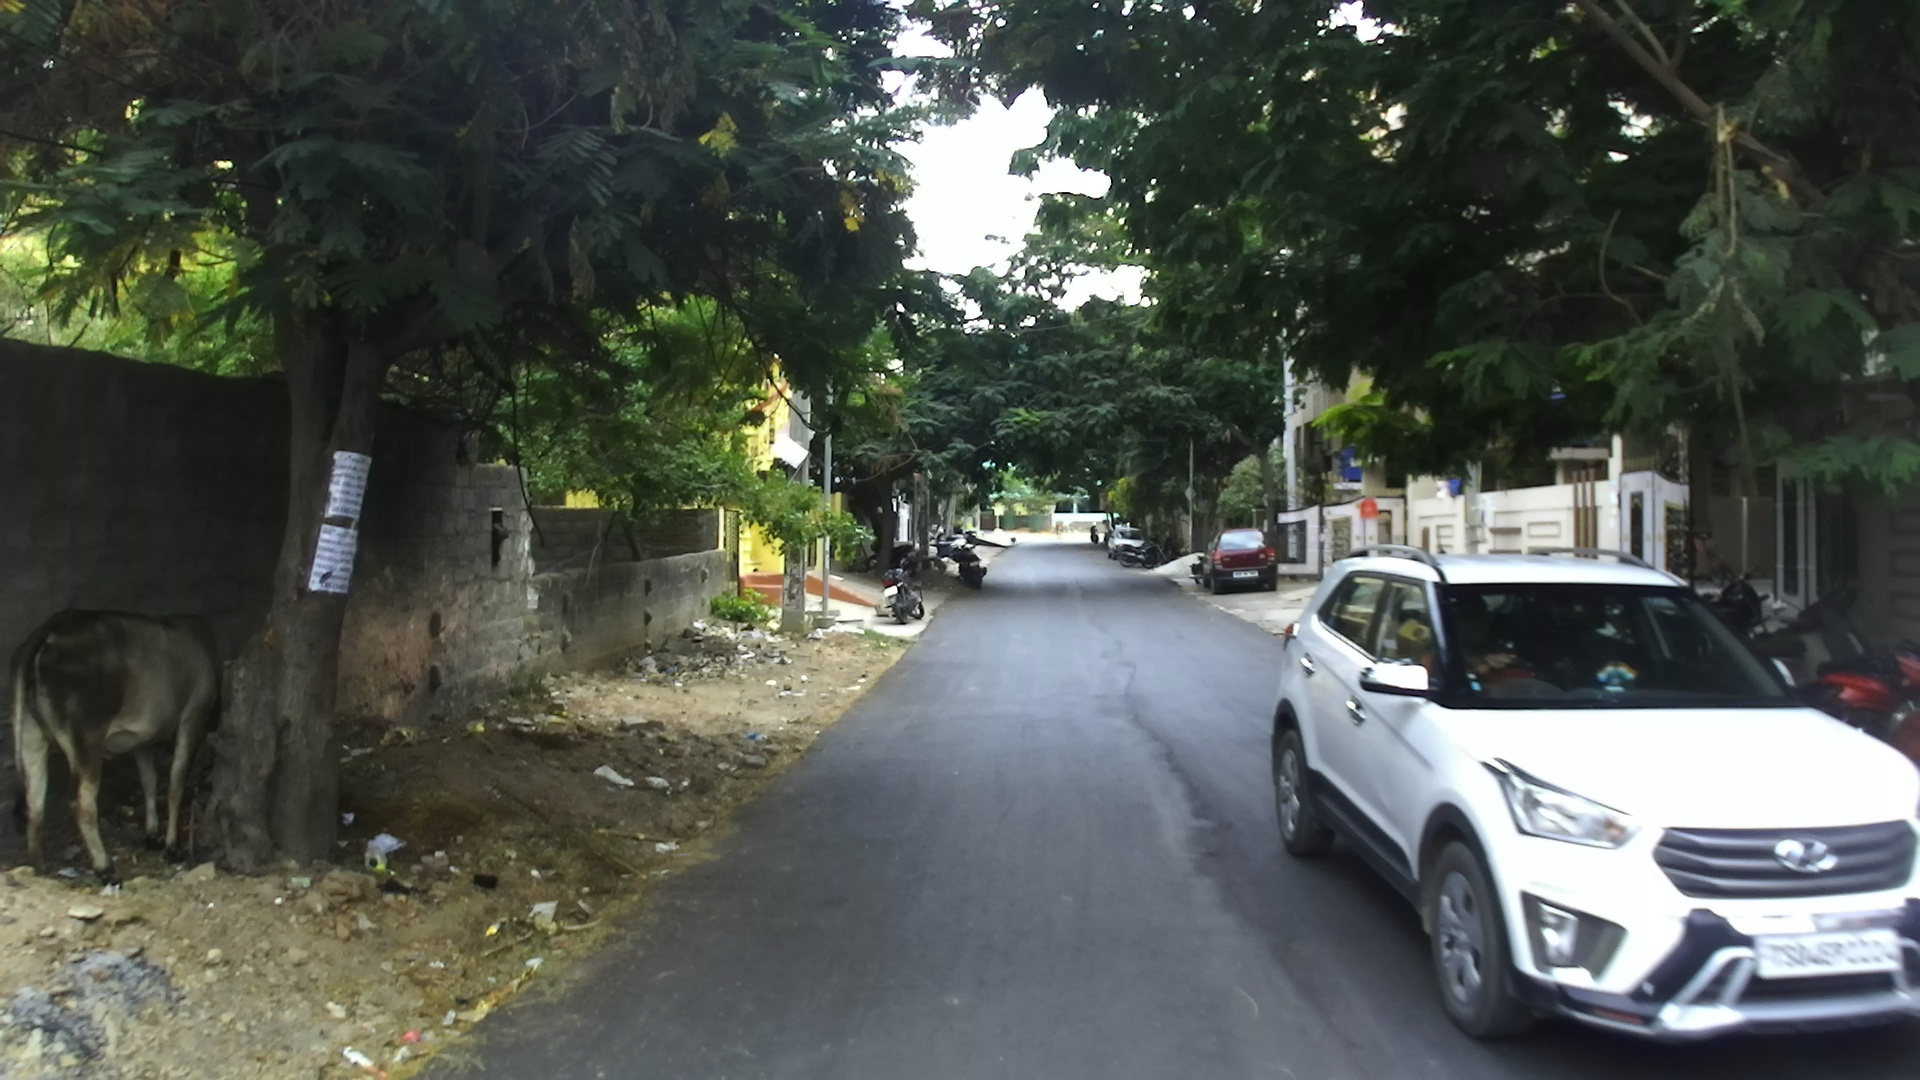vehicle: (1266, 549, 1919, 1042), (1747, 591, 1917, 761), (1204, 527, 1278, 591), (1104, 525, 1153, 566)
